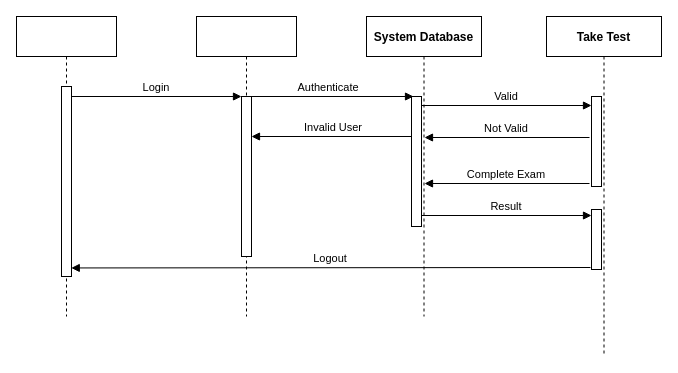
This 678x373 diagram has some shape labels left out. The shapes that lost their labels are listed below. From the top down, each one's box as (x1, y1, x2, y2) in pixels, then its label:
(16, 16, 116, 316): Homepage
(196, 16, 296, 316): User Login
